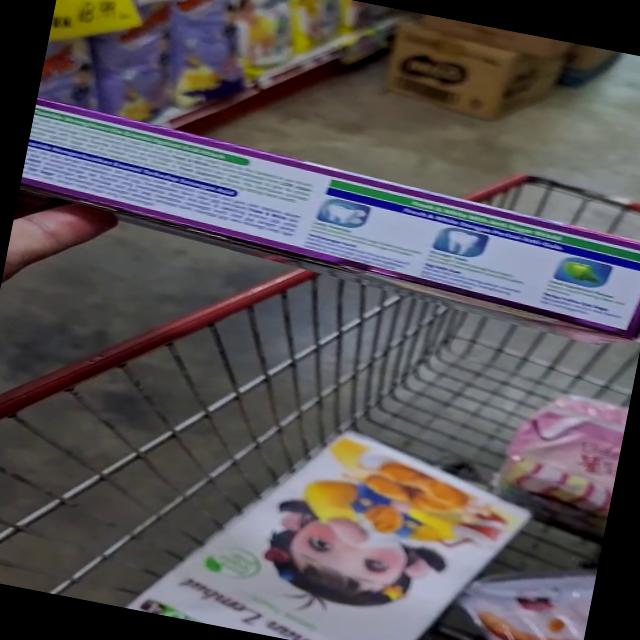Tisu: (116, 459, 475, 640), (253, 402, 548, 602)
Ubat Gigi: (12, 90, 640, 351)
